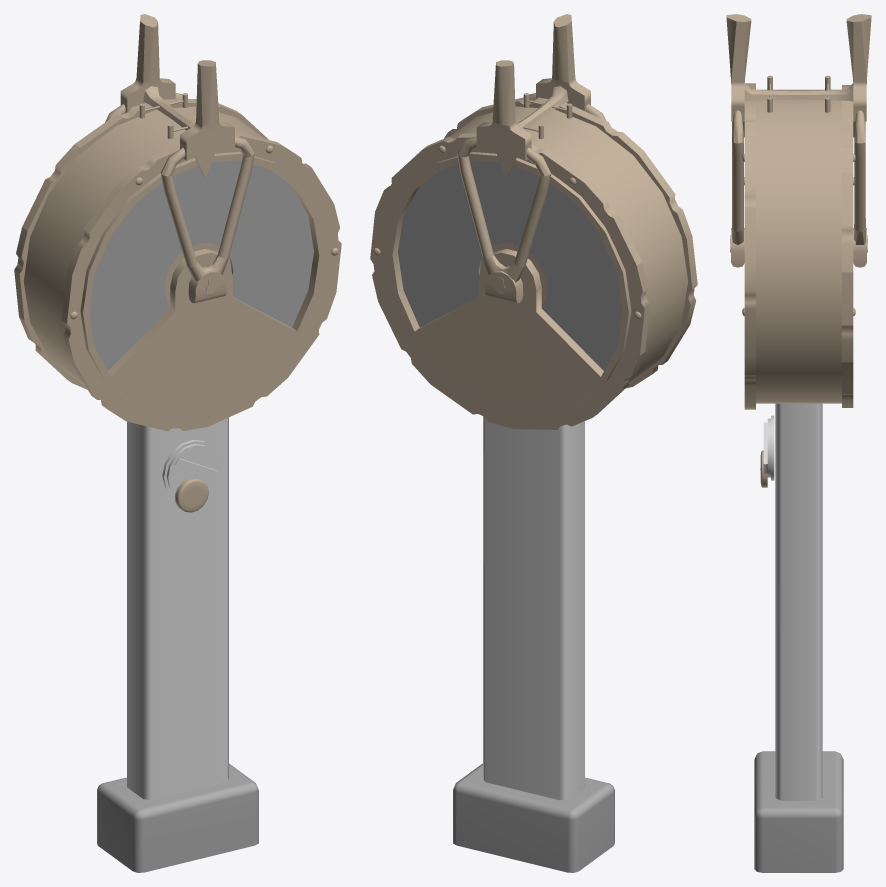
The model's file is m_bridge_speedGauge_medium_r.fbx.
3 renders of one model, left to right at view 1: azimuth 30°, elevation 25°; view 2: azimuth 150°, elevation 25°; view 3: azimuth 270°, elevation 25°, orthographic. The views are drawn at different scales.
Visible parts, largest first — view 1: polySurface87, polySurface59, polySurface64, polySurface60, polySurface88, polySurface62, polySurface63, polySurface67, polySurface66, polySurface79, polySurface90, polySurface92 (+2 smaller); view 2: polySurface87, polySurface85, polySurface86, polySurface60, polySurface88, polySurface63, polySurface61, polySurface62, polySurface80, polySurface79, polySurface66, polySurface81 (+1 smaller); view 3: polySurface60, polySurface87, polySurface88, polySurface62, polySurface63, polySurface66, polySurface79, polySurface80, polySurface67, polySurface78, polySurface68, polySurface81.
Part boxes in pixels (left/top/right/bottom): polySurface87: left=127, top=417, right=228, bottom=800; polySurface59: left=89, top=160, right=313, bottom=370; polySurface64: left=80, top=152, right=325, bottom=413; polySurface60: left=23, top=106, right=329, bottom=417; polySurface88: left=97, top=763, right=258, bottom=872; polySurface62: left=61, top=132, right=341, bottom=431; polySurface63: left=14, top=99, right=268, bottom=389; polySurface67: left=160, top=136, right=254, bottom=281; polySurface66: left=180, top=60, right=234, bottom=145; polySurface79: left=120, top=14, right=175, bottom=102; polySurface90: left=166, top=444, right=217, bottom=493; polySurface92: left=175, top=478, right=208, bottom=512; polySurface87: left=483, top=416, right=584, bottom=800; polySurface85: left=398, top=160, right=622, bottom=370; polySurface86: left=388, top=152, right=628, bottom=413; polySurface60: left=382, top=106, right=687, bottom=416; polySurface88: left=453, top=763, right=614, bottom=872; polySurface63: left=370, top=133, right=650, bottom=429; polySurface61: left=386, top=152, right=631, bottom=411; polySurface62: left=444, top=97, right=697, bottom=388; polySurface80: left=457, top=136, right=551, bottom=282; polySurface79: left=476, top=60, right=531, bottom=145; polySurface66: left=536, top=14, right=590, bottom=102; polySurface81: left=485, top=271, right=523, bottom=303; polySurface60: left=756, top=89, right=841, bottom=403; polySurface87: left=775, top=403, right=822, bottom=800; polySurface88: left=754, top=751, right=843, bottom=872; polySurface62: left=744, top=83, right=755, bottom=409; polySurface63: left=842, top=85, right=853, bottom=407; polySurface66: left=726, top=14, right=751, bottom=106; polySurface79: left=846, top=14, right=871, bottom=106; polySurface80: left=854, top=110, right=865, bottom=244; polySurface67: left=732, top=110, right=743, bottom=244; polySurface78: left=744, top=83, right=853, bottom=101; polySurface68: left=731, top=228, right=744, bottom=267; polySurface81: left=853, top=228, right=866, bottom=267.
Bounding box in the file's own units: 22.68 × 63.32 × 10.09.
